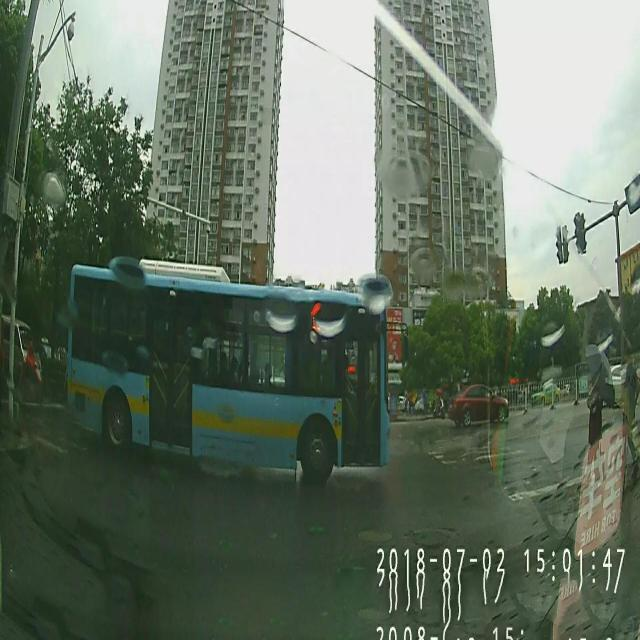car: (450, 386, 510, 424)
